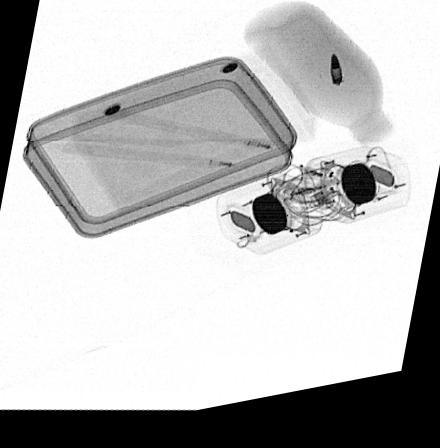Bullet: (328, 64, 342, 97)
